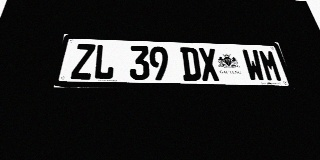3: (130, 45, 149, 80)
9: (149, 46, 169, 80)
D: (180, 47, 202, 81)
L: (92, 44, 115, 80)
M: (258, 50, 284, 82)
W: (241, 49, 266, 82)
X: (198, 48, 220, 81)
Z: (70, 44, 96, 80)
